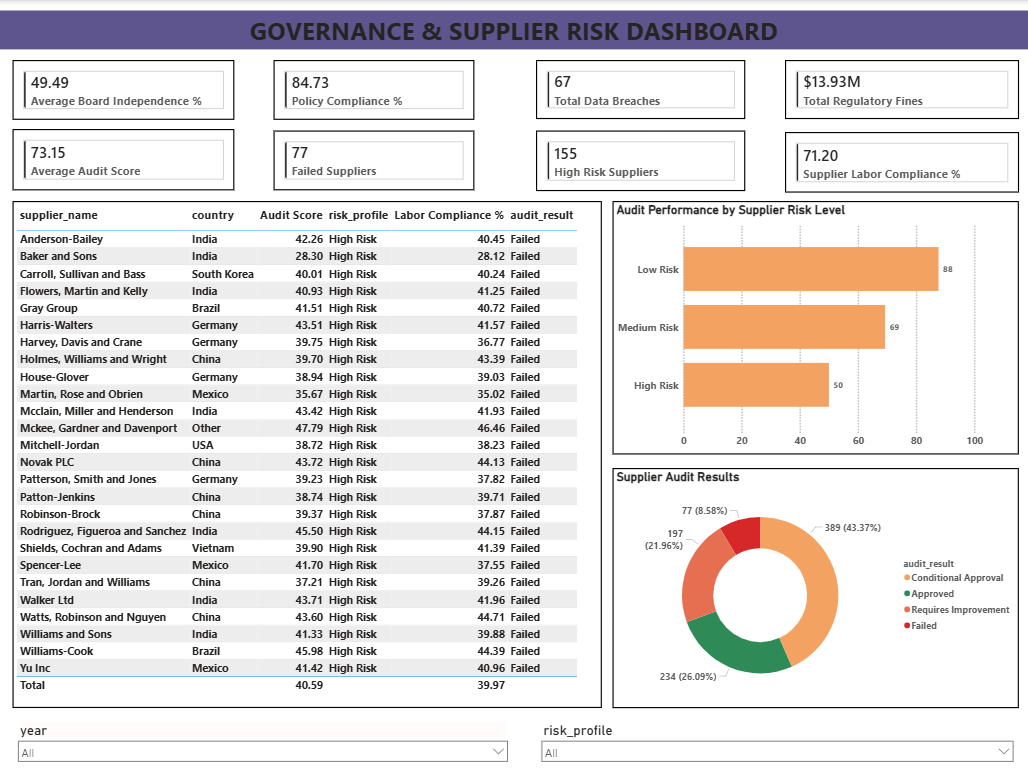

The dashboard page shown, as its layout file describes it:
{"tool":"powerbi","page":{"name":"Page 3","canvas":[1800,1350],"ordinal":2},"visuals":[{"type":"textbox","box":[0,17.7,1801,68.2],"z":0},{"type":"cardVisual","fields":{"Data":["Measures Table.Average Board Independence %"]},"box":[23.6,104.9,388.2,104.9],"z":1000},{"type":"cardVisual","fields":{"Data":["Measures Table.Total Data Breaches"]},"box":[939.7,106.1,366.3,103.6],"z":2000},{"type":"cardVisual","fields":{"Data":["Measures Table.Policy Compliance %"]},"box":[480,104.9,351.5,104.9],"z":3000},{"type":"cardVisual","fields":{"Data":["Measures Table.Total Regulatory Fines"]},"box":[1374.1,106.1,409.2,103.6],"z":4000},{"type":"cardVisual","fields":{"Data":["Measures Table.Average Audit Score"]},"box":[23.6,225.6,388.2,107.5],"z":5000},{"type":"cardVisual","fields":{"Data":["Measures Table.Failed Suppliers"]},"box":[480,228.2,351.5,104.9],"z":6000},{"type":"cardVisual","fields":{"Data":["Measures Table.High Risk Suppliers"]},"box":[939.7,227.3,366.3,106.1],"z":7000},{"type":"cardVisual","fields":{"Data":["Measures Table.Supplier Labor Compliance %"]},"box":[1374.1,229.9,409.2,106.1],"z":8000},{"type":"clusteredBarChart","title":"Audit Performance by Supplier Risk Level","fields":{"Y":["Measures Table.Average Audit Score"],"Category":["esg_analysis esg_supplier_compliance_clean.risk_profile"]},"box":[1154.2,351.5,629.5,443.3],"z":9000},{"type":"slicer","fields":{"Values":["esg_analysis esg_kpi_summary.year"]},"box":[23.6,1256.5,876.1,94.4],"z":10000},{"type":"slicer","fields":{"Values":["esg_analysis esg_supplier_compliance_clean.risk_profile"]},"box":[939.1,1256.5,844.6,94.4],"z":11000},{"type":"donutChart","title":"Supplier Audit Results","fields":{"Y":["Measures Table.Supplier Count"],"Category":["esg_analysis esg_supplier_compliance_clean.audit_result"]},"box":[1154.2,818.4,629.5,419.7],"z":12000},{"type":"tableEx","title":"Scope 1 vs Scope 2 Emissions Trend","fields":{"Values":["esg_analysis esg_supplier_compliance_clean.supplier_name","esg_analysis esg_supplier_compliance_clean.country","esg_analysis esg_supplier_compliance_clean.risk_profile","Sum(esg_analysis esg_supplier_compliance_clean.audit_score)","Sum(esg_analysis esg_supplier_compliance_clean.labor_compliance_pct)","esg_analysis esg_supplier_compliance_clean.audit_result"]},"box":[23.6,351.5,1070.2,886.6],"z":13000}]}

Visuals, with their boxes in screenshot pixels (x1, y1, x2, y2), scaled from the page's 1800x1350 canvas onto the 1028x772 screenshot:
textbox: bbox(0, 10, 1027, 49)
cardVisual - Measures Table.Average Board Independence %: bbox(13, 60, 235, 120)
cardVisual - Measures Table.Total Data Breaches: bbox(537, 61, 746, 120)
cardVisual - Measures Table.Policy Compliance %: bbox(274, 60, 475, 120)
cardVisual - Measures Table.Total Regulatory Fines: bbox(785, 61, 1018, 120)
cardVisual - Measures Table.Average Audit Score: bbox(13, 129, 235, 190)
cardVisual - Measures Table.Failed Suppliers: bbox(274, 130, 475, 190)
cardVisual - Measures Table.High Risk Suppliers: bbox(537, 130, 746, 191)
cardVisual - Measures Table.Supplier Labor Compliance %: bbox(785, 131, 1018, 192)
"Audit Performance by Supplier Risk Level" clusteredBarChart: bbox(659, 201, 1019, 455)
slicer - esg_analysis esg_kpi_summary.year: bbox(13, 719, 514, 771)
slicer - esg_analysis esg_supplier_compliance_clean.risk_profile: bbox(536, 719, 1019, 771)
"Supplier Audit Results" donutChart: bbox(659, 468, 1019, 708)
"Scope 1 vs Scope 2 Emissions Trend" tableEx: bbox(13, 201, 625, 708)
